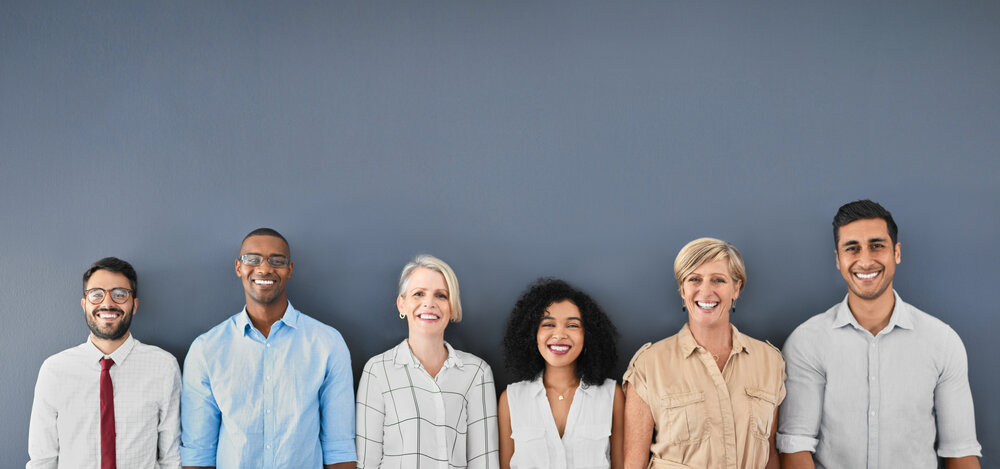without_mask: (833, 216, 904, 297), (80, 268, 141, 339), (233, 235, 294, 305), (397, 266, 450, 344), (680, 255, 744, 319), (534, 297, 584, 365)
